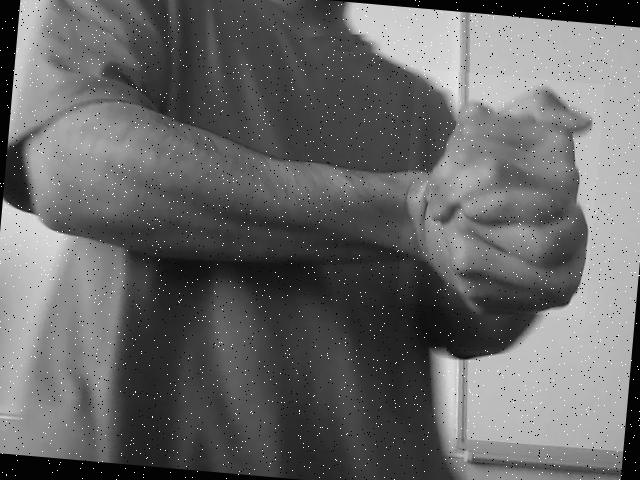friend: (402, 78, 601, 310)
